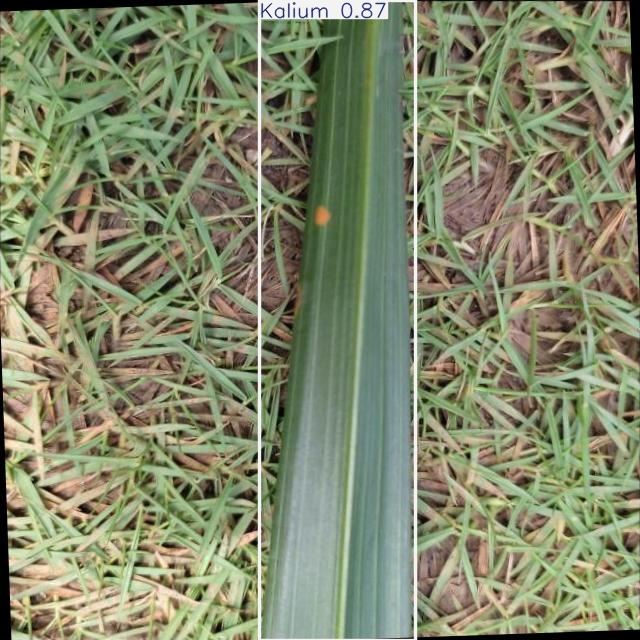Kalium: (260, 1, 416, 640)
